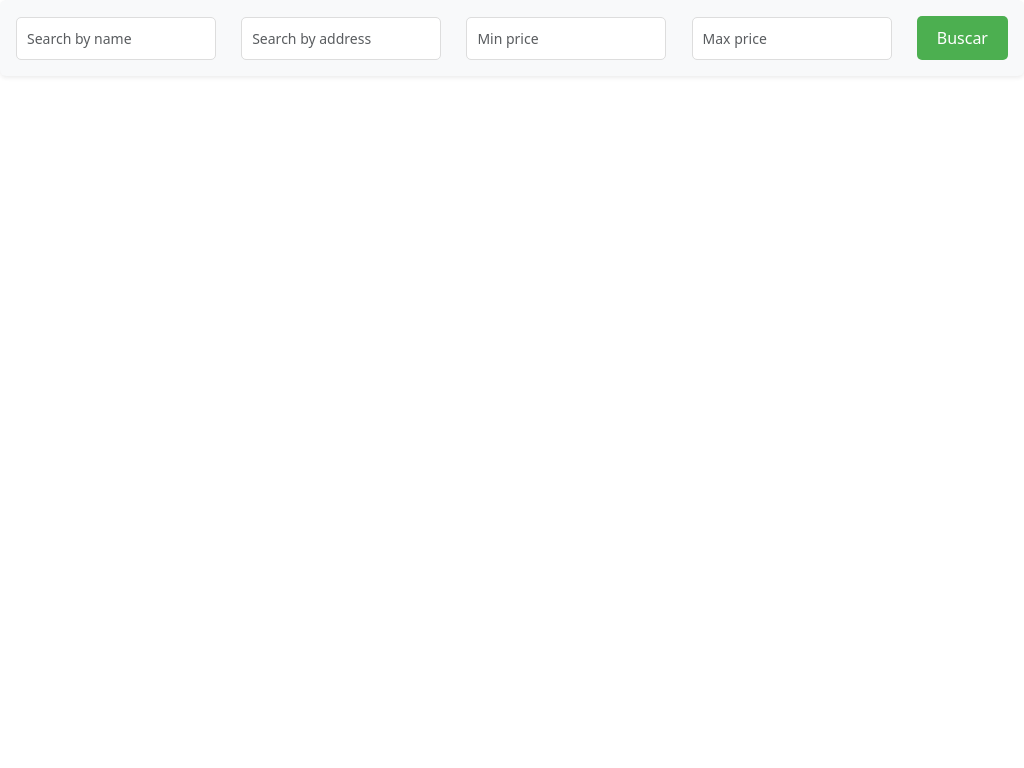
Test: Filters Component › should show an error message when minPrice is greater than maxPrice
Type "200" into the number field with placeholder "Min price" at (566,38), box [466, 16, 666, 60]
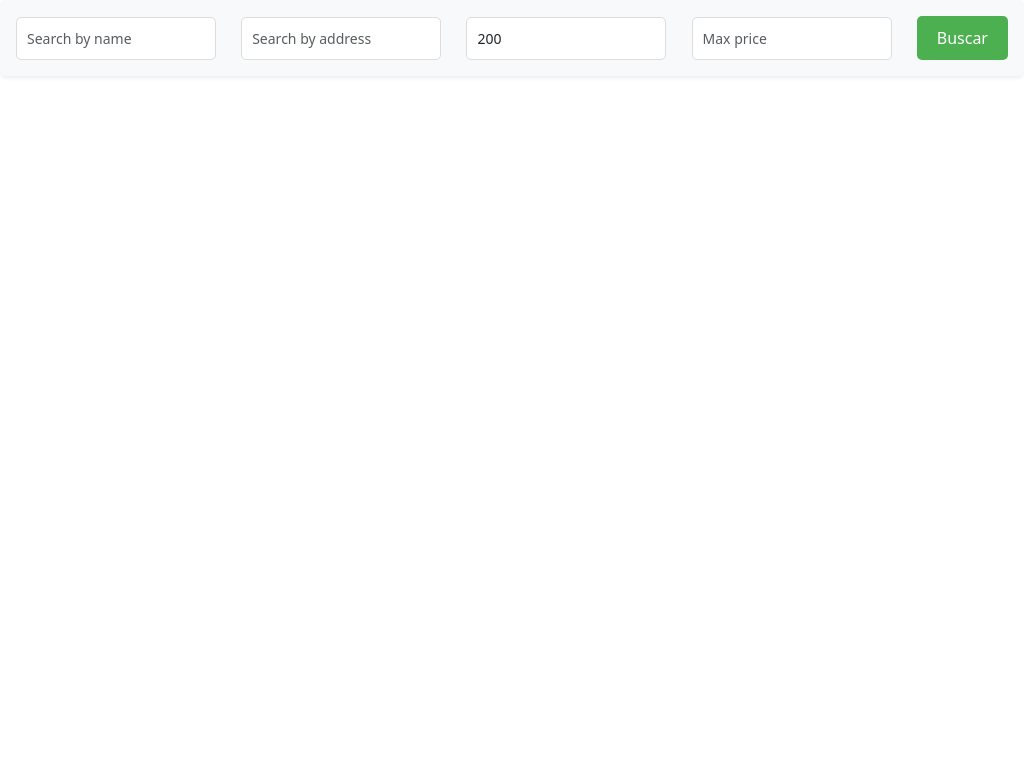
Type "100" into the number field with placeholder "Max price" at (792,38), box [692, 16, 892, 60]
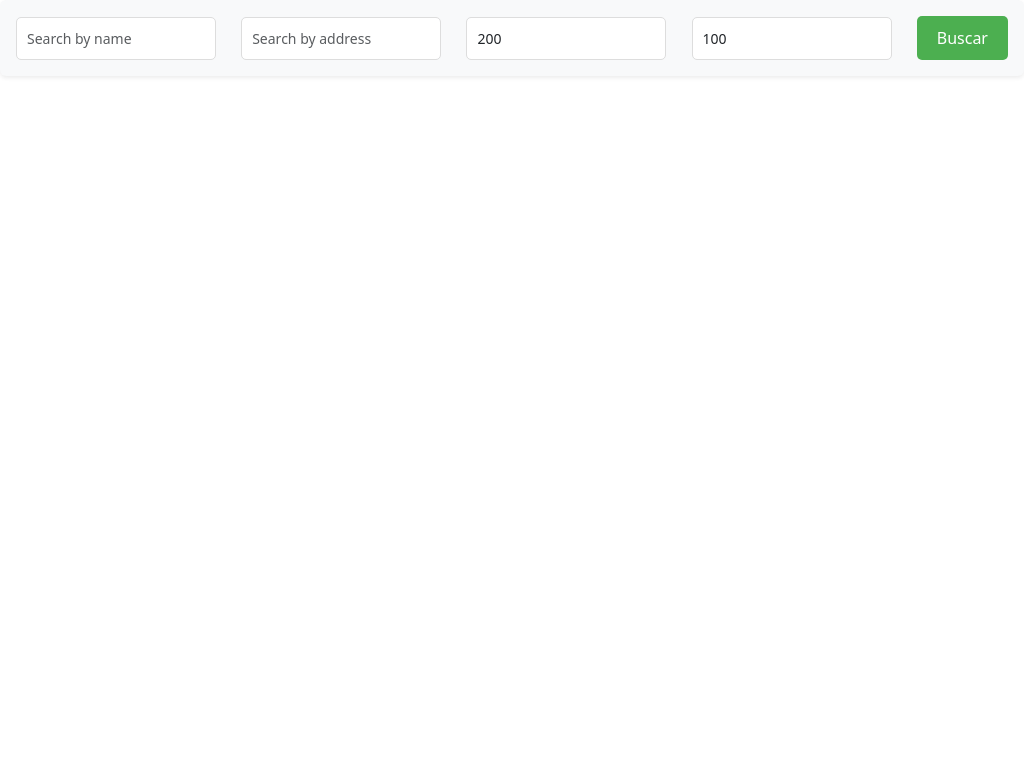
Click the button "Buscar" at (962,38), box [917, 16, 1008, 60]
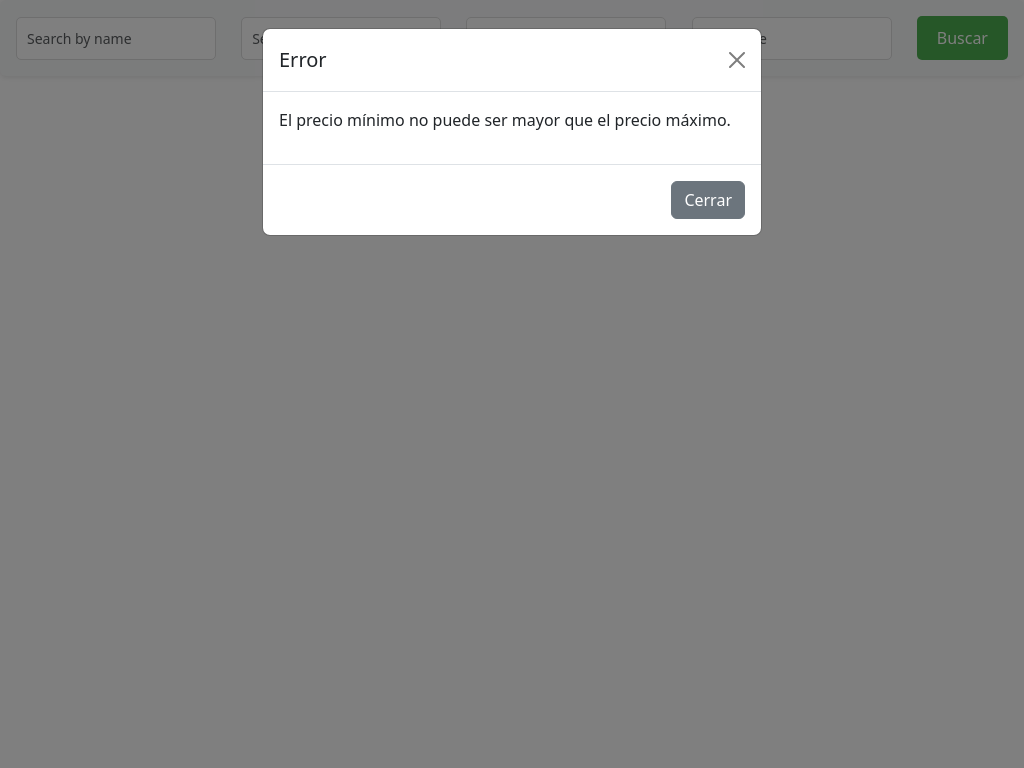
Result: the text "El precio mínimo no puede ser mayor que el precio máximo." is shown at [279, 108, 745, 132]
